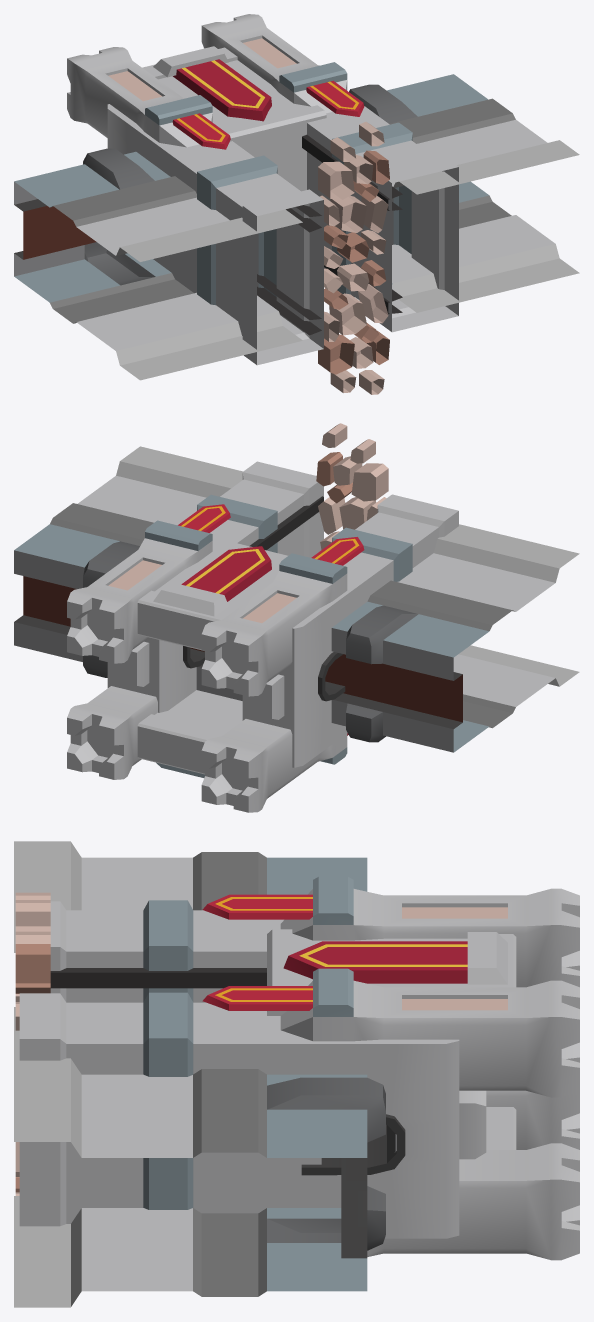
File: Gate.dae
3 renders of one model, top to bottom at view 1: azimuth 30°, elevation 25°; view 2: azimuth 150°, elevation 25°; view 3: azimuth 270°, elevation 25°, orthographic. The views are drawn at different scales.
Parts seen in each view (by area): view 1: Gate_wall; view 2: Gate_wall; view 3: Gate_wall.
Part boxes in pixels (x1,y1,x2,y2): Gate_wall: [14, 14, 579, 394]; Gate_wall: [14, 423, 579, 812]; Gate_wall: [14, 841, 579, 1307].
Bounding box in the file's own units: 6.62 × 5.27 × 3.79.
